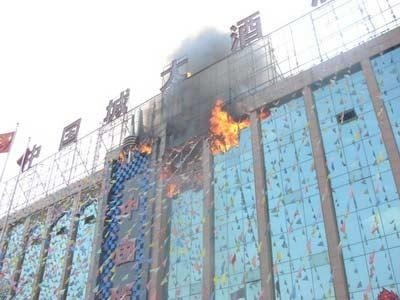fire: (206, 100, 252, 151), (118, 139, 155, 159)
